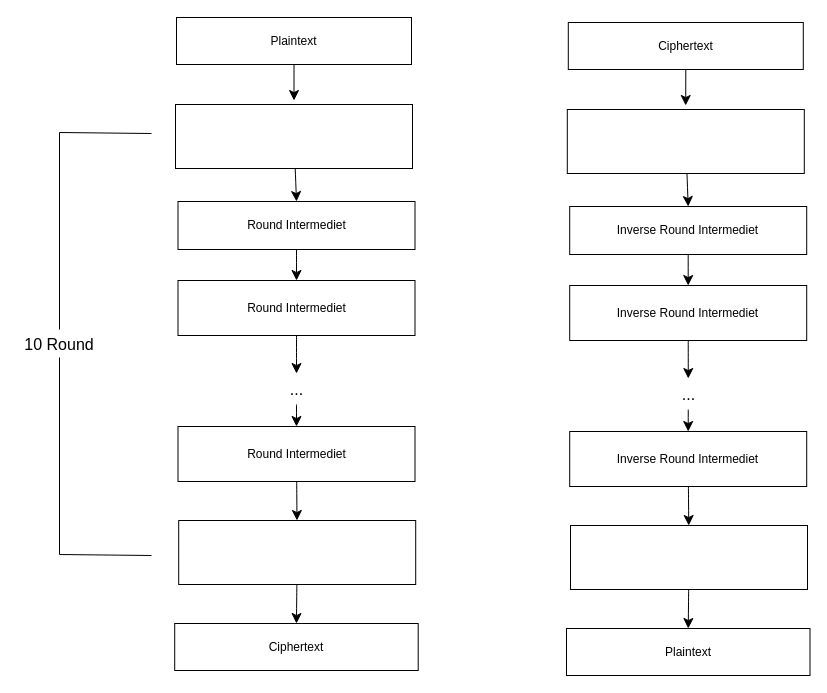
This 827x693 diagram has some shape labels left out. Here are the shapes that lost their labels. From the top down, the box of each, then its label:
(174, 104, 412, 168): Round Awal
(566, 108, 804, 174): Inverse Round Akhir
(178, 520, 416, 584): Round Akhir
(570, 524, 808, 590): Inverse Round Awal
